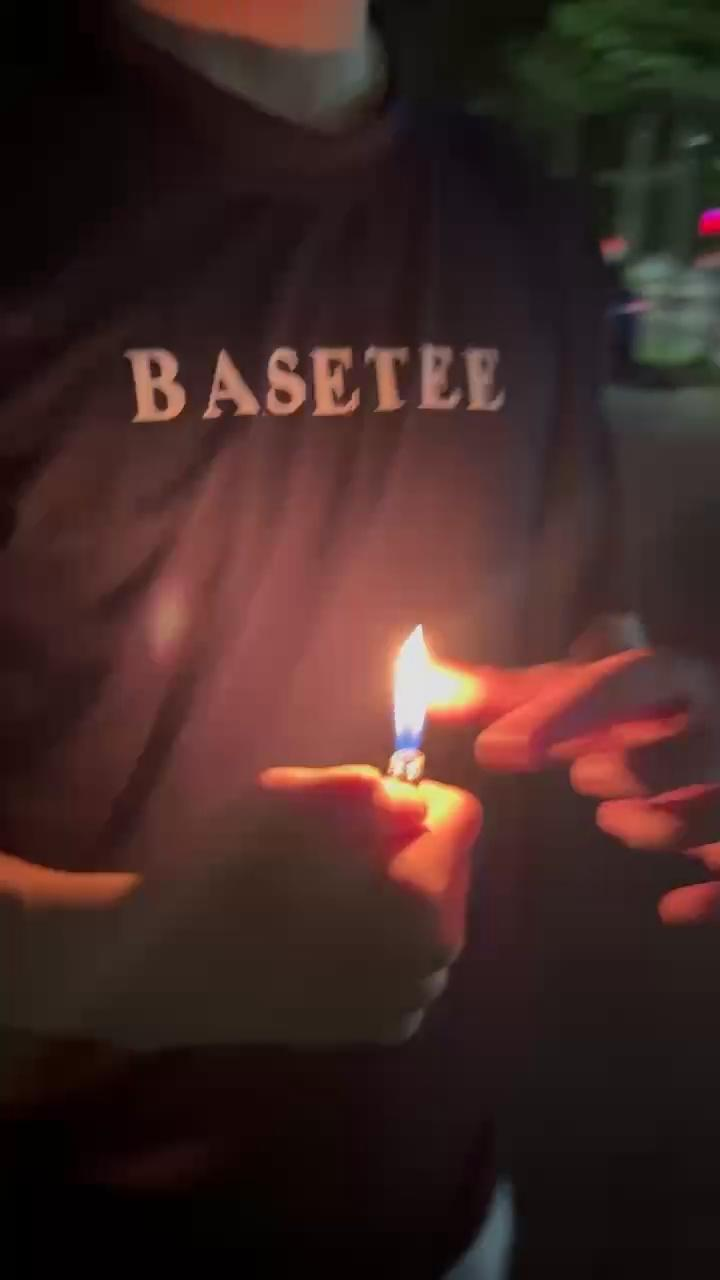Fire: (375, 608, 462, 795)
